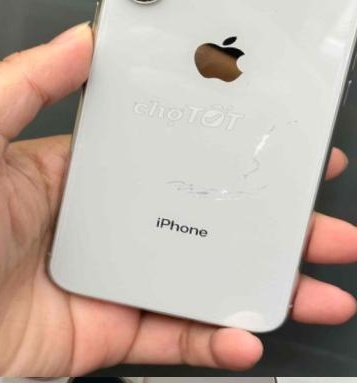scratch: (152, 152, 255, 218), (230, 113, 284, 203), (124, 0, 159, 11)
